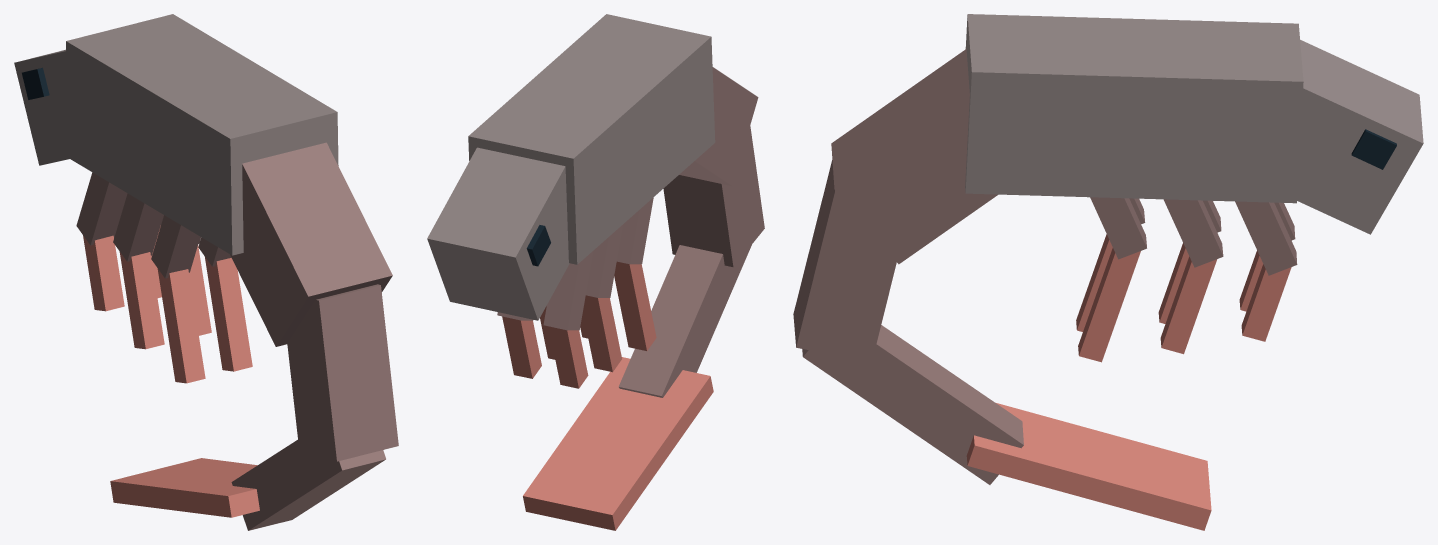
Rendered from Shrimp.fbx.
3 renders of one model, left to right at view 1: azimuth 30°, elevation 25°; view 2: azimuth 150°, elevation 25°; view 3: azimuth 270°, elevation 25°, orthographic. The views are drawn at different scales.
Parts seen in each view (by area): view 1: Shrimp; view 2: Shrimp; view 3: Shrimp.
Boxes of the visible parts, x1,y1,x2,y2 form: Shrimp: (14, 14, 398, 530); Shrimp: (427, 14, 764, 530); Shrimp: (793, 14, 1423, 530).
Size of the model in its own units: 37.24 by 132 by 160.
